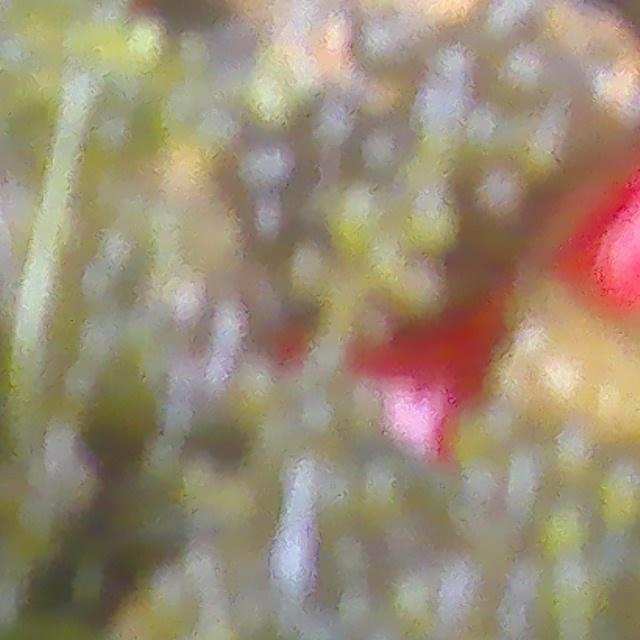SeaGrape: (290, 89, 368, 160), (226, 146, 301, 207)
